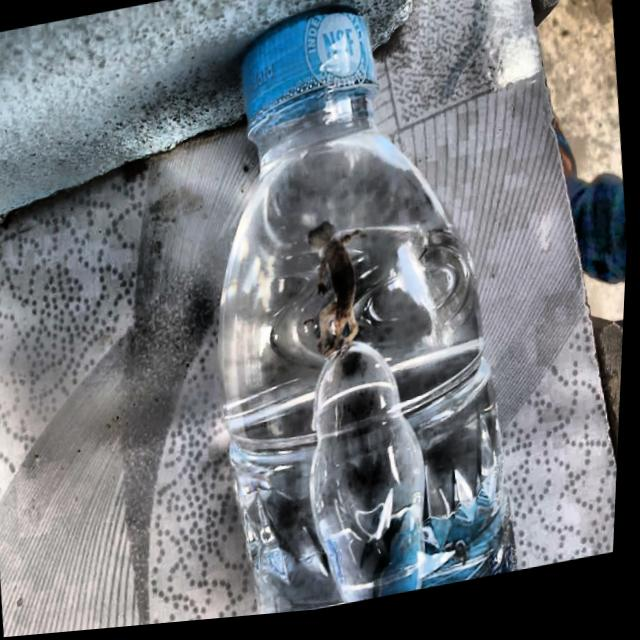Bottles: (171, 0, 571, 627)
